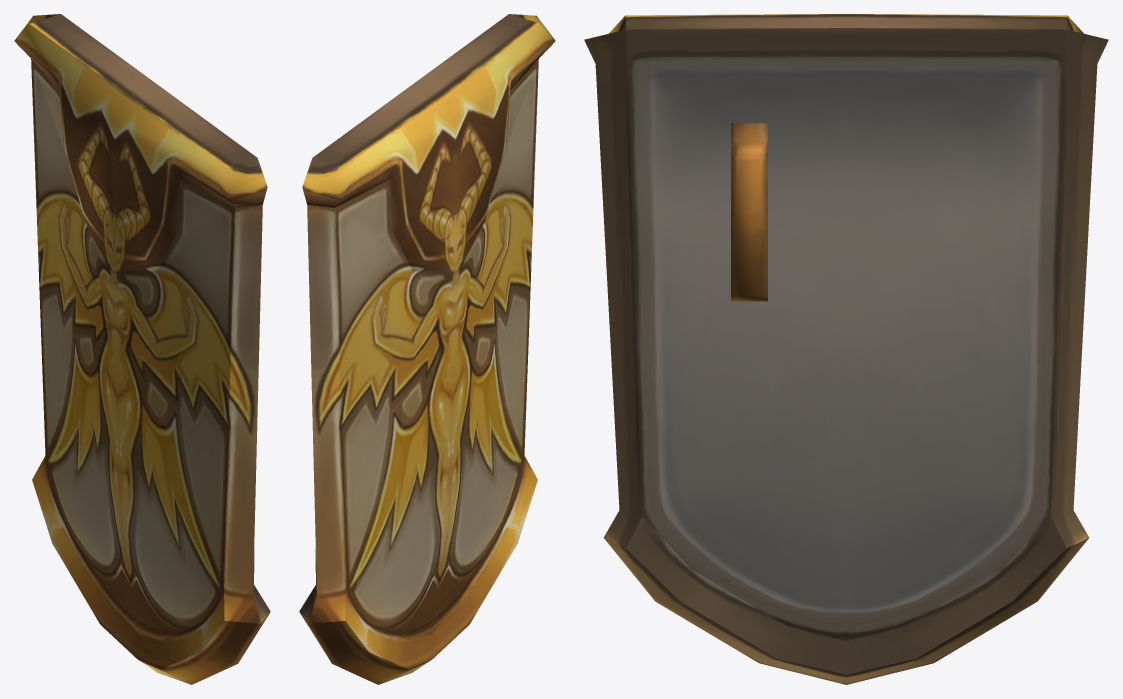
Rendered from Shield03_mesh.FBX.
The picture shows the model from 3 angles, left to right: view 1: azimuth 30°, elevation 25°; view 2: azimuth 150°, elevation 25°; view 3: azimuth 270°, elevation 25°; orthographic projection. The views are drawn at different scales.
Parts seen in each view (by area): view 1: Shield03_mesh; view 2: Shield03_mesh; view 3: Shield03_mesh.
Boxes of the visible parts, x1,y1,x2,y2 form: Shield03_mesh: [14, 14, 270, 684]; Shield03_mesh: [299, 14, 555, 684]; Shield03_mesh: [584, 14, 1108, 684].
Bounding box in the file's own units: 6.04 × 41.61 × 30.1.
